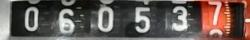digits: (208, 1, 224, 37), (58, 8, 75, 34), (170, 6, 188, 30), (96, 6, 113, 31), (134, 6, 150, 32), (24, 6, 39, 30)
